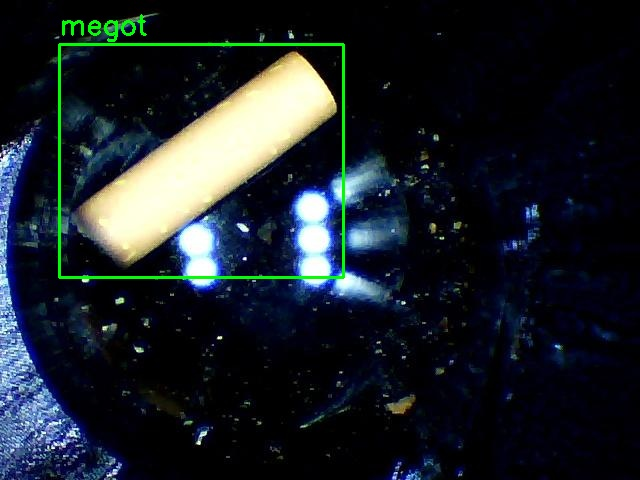megot: (59, 44, 343, 277)
